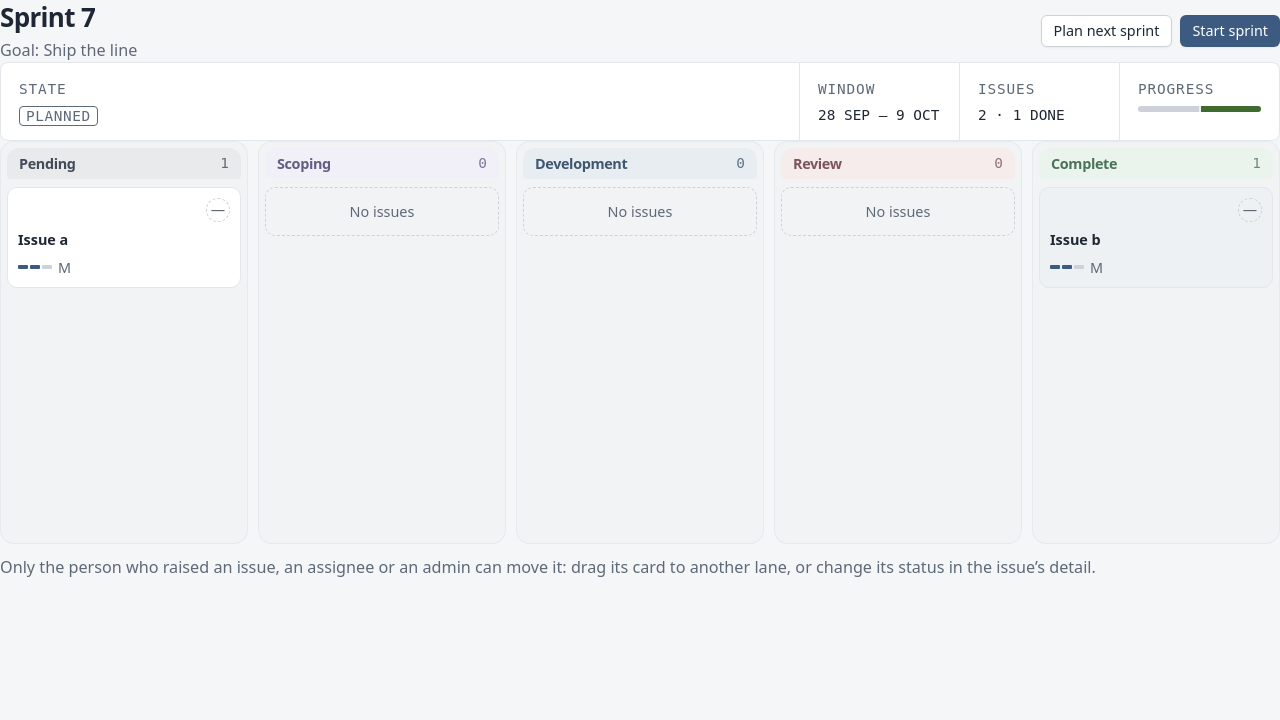
Test case: Complete and Start sprint › shows a refusal and no toast
Click the button "Start sprint" at (1230, 31), box [1180,15,1279,47]
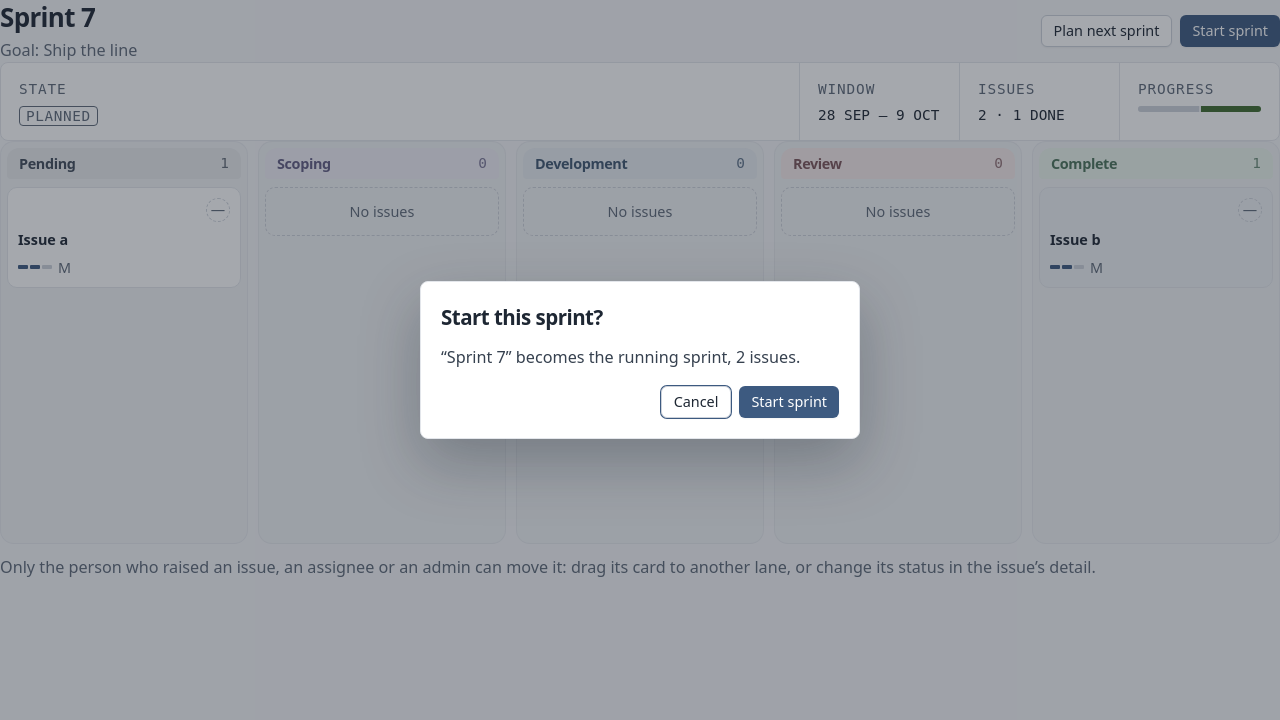
Click the button "Start sprint" at (789, 402), box [740,386,839,418]
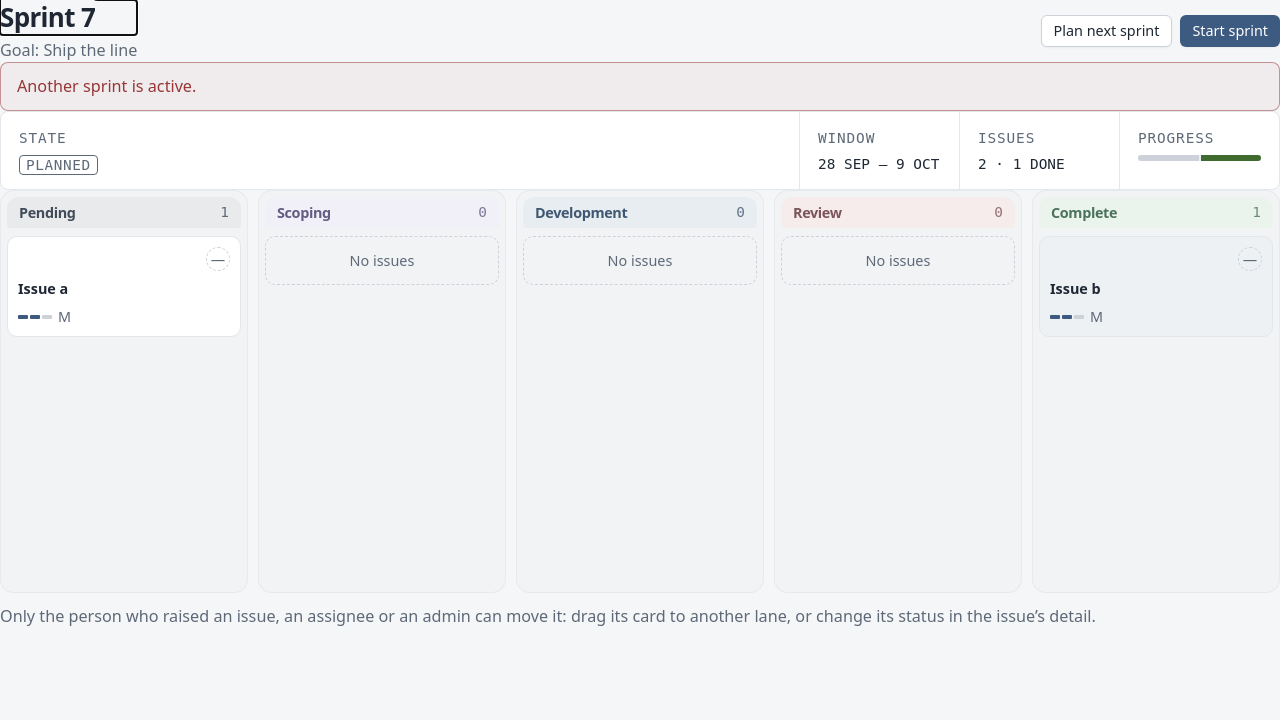
Check: the message reads "Another sprint is active.", box [17,75,196,97]
